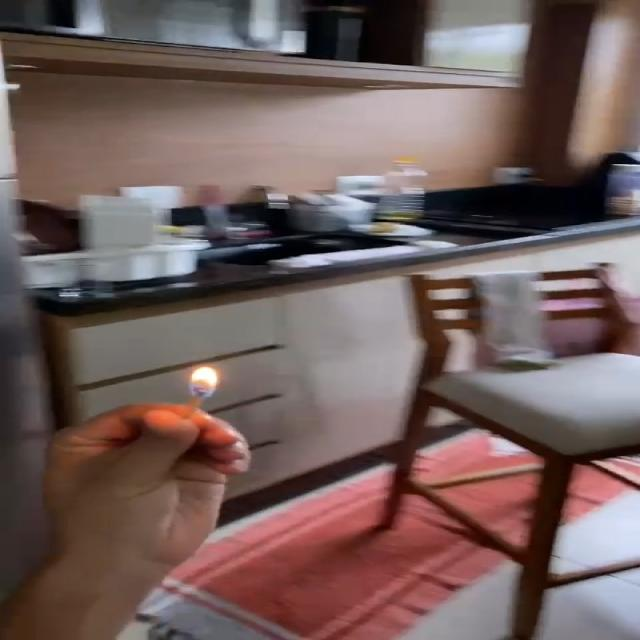fogo-ypXI: (189, 365, 218, 398)
